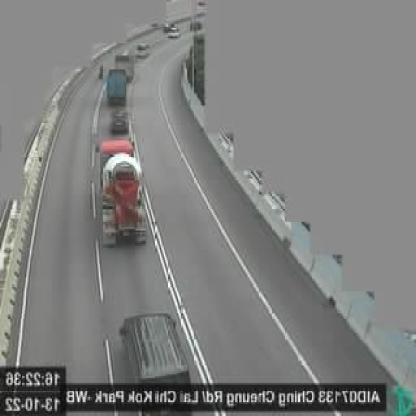Car: (119, 313, 196, 399), (114, 49, 135, 83), (108, 108, 129, 133), (135, 44, 148, 58), (168, 27, 178, 38)
Truck: (97, 134, 147, 246), (105, 68, 127, 108)
